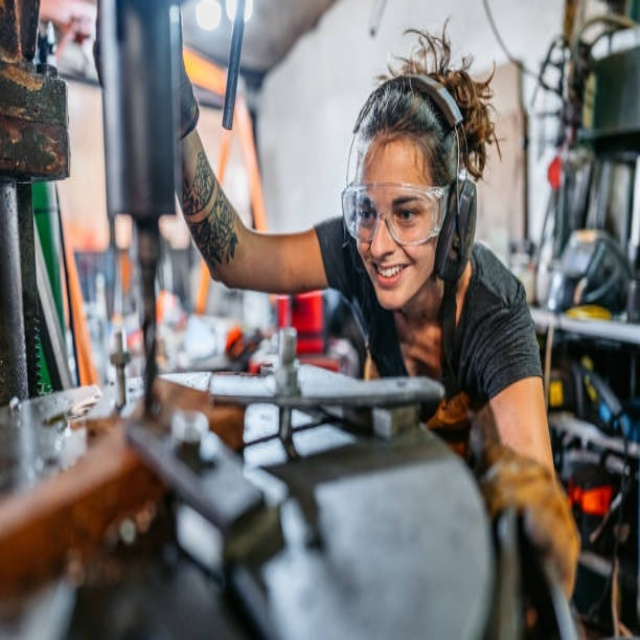Gafas: (340, 174, 454, 248)
Sin_guantes: (38, 0, 98, 56)
Sin_mascara: (366, 256, 409, 300)
